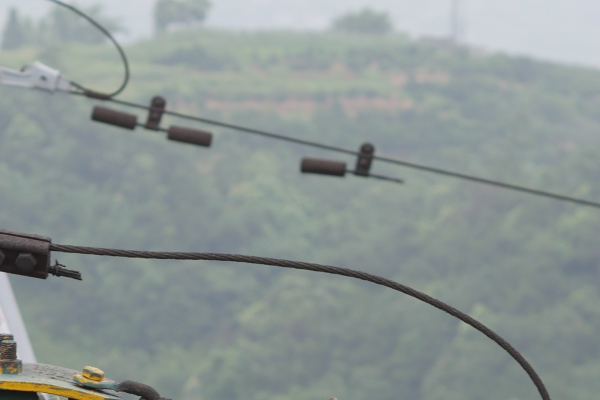damper: (86, 95, 217, 150)
damper_defect: (295, 138, 410, 189)
